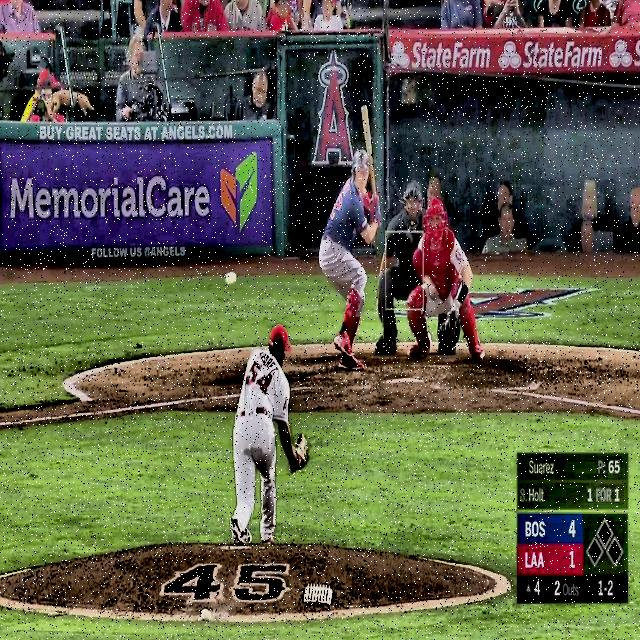baseball: (226, 271, 237, 286)
